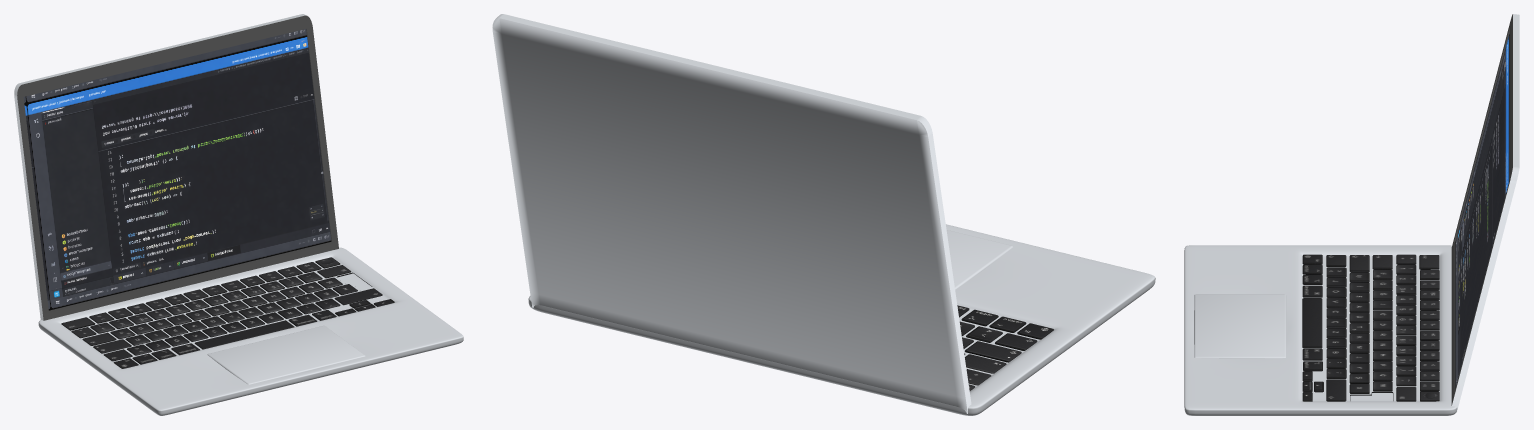
Rendered from laptop.glb.
3 renders of one model, left to right at view 1: azimuth 30°, elevation 25°; view 2: azimuth 150°, elevation 25°; view 3: azimuth 270°, elevation 25°, orthographic. The views are drawn at different scales.
Parts seen in each view (by area): view 1: Cube_Material.003_0.001, Cube.001, Keyboard, Cube_Material.004_0, Cube.002_Material.002_0, Keyboard_Material.001_0.001, Cube_Material.002_0, Cube.001_Material.002_0.001, Cube_Material.002_0.001; view 2: Cube_Material.002_0.001, Cube.001, Cube.001_Material.002_0.001, Cube_Material.002_0, Keyboard, Cube.002_Material.002_0, Keyboard_Material.001_0.001; view 3: Cube.001, Keyboard, Cube_Material.003_0.001, Cube.002_Material.002_0, Cube_Material.002_0, Cube_Material.004_0, Keyboard_Material.001_0.001, Cube.001_Material.002_0.001, Cube_Material.002_0.001, Cube_Material.004_0.001.
Boxes of the visible parts, bbox=[...] form: Cube_Material.003_0.001: bbox=[23, 29, 331, 310]; Cube.001: bbox=[39, 247, 463, 415]; Keyboard: bbox=[62, 257, 394, 368]; Cube_Material.004_0: bbox=[17, 15, 338, 320]; Cube.002_Material.002_0: bbox=[209, 325, 365, 384]; Keyboard_Material.001_0.001: bbox=[61, 257, 390, 368]; Cube_Material.002_0: bbox=[14, 14, 306, 320]; Cube.001_Material.002_0.001: bbox=[38, 247, 398, 414]; Cube_Material.002_0.001: bbox=[14, 97, 42, 315]; Cube_Material.002_0.001: bbox=[492, 18, 969, 413]; Cube.001: bbox=[530, 224, 1155, 407]; Cube.001_Material.002_0.001: bbox=[528, 230, 1154, 415]; Cube_Material.002_0: bbox=[496, 14, 971, 412]; Keyboard: bbox=[957, 305, 1052, 388]; Cube.002_Material.002_0: bbox=[946, 230, 1012, 286]; Keyboard_Material.001_0.001: bbox=[958, 308, 1053, 390]; Cube.001: bbox=[1184, 245, 1454, 415]; Keyboard: bbox=[1302, 254, 1439, 401]; Cube_Material.003_0.001: bbox=[1455, 33, 1509, 388]; Cube.002_Material.002_0: bbox=[1194, 294, 1285, 358]; Cube_Material.002_0: bbox=[1452, 14, 1519, 410]; Cube_Material.004_0: bbox=[1451, 14, 1512, 405]; Keyboard_Material.001_0.001: bbox=[1303, 254, 1439, 401]; Cube.001_Material.002_0.001: bbox=[1191, 252, 1457, 415]; Cube_Material.002_0.001: bbox=[1452, 180, 1516, 409]; Cube_Material.004_0.001: bbox=[1454, 28, 1509, 328].
Size of the model in its own units: 0.3221 by 0.2233 by 0.2768.
Materials: 8 (4 with a texture image).
